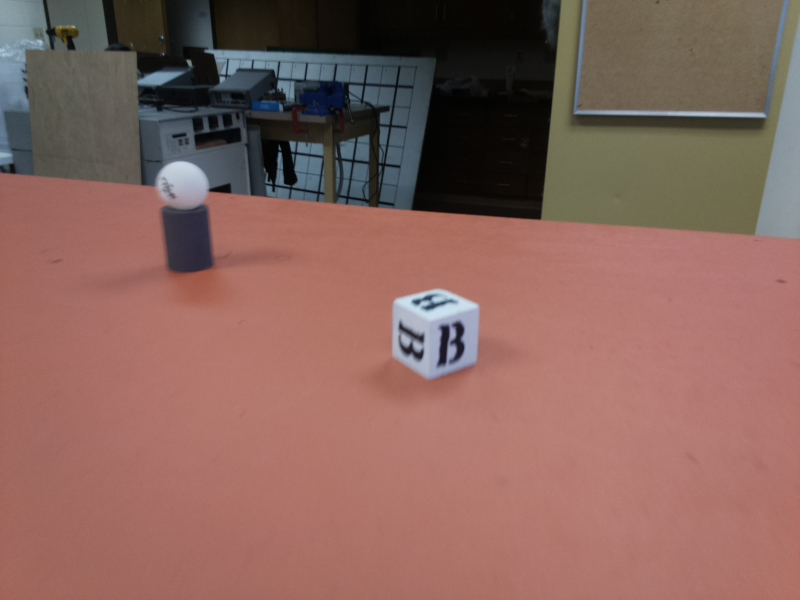blockB: (390, 285, 482, 376)
obstacle: (154, 157, 215, 276)
